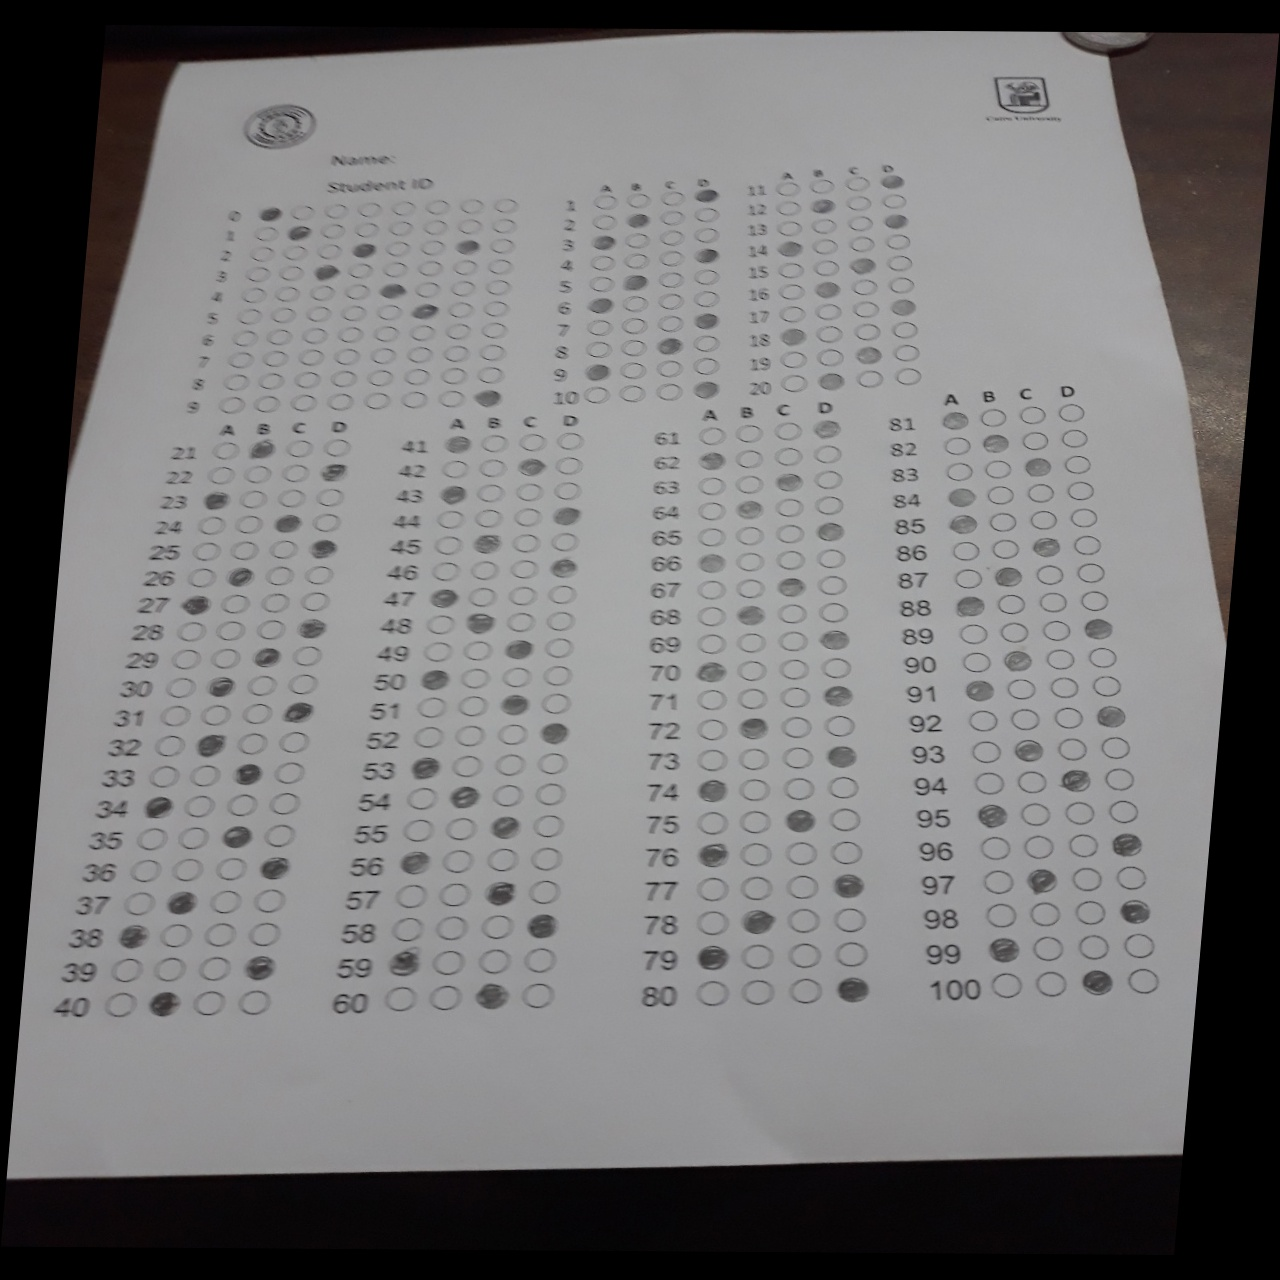not-c: (693, 874, 731, 903), (425, 983, 464, 1010), (520, 946, 559, 973), (435, 881, 474, 908), (490, 751, 529, 778), (694, 908, 731, 935), (381, 985, 418, 1012), (388, 915, 425, 942), (483, 846, 520, 873), (448, 753, 485, 779), (401, 816, 440, 842), (738, 942, 775, 969), (787, 942, 823, 969), (785, 907, 822, 934), (695, 979, 731, 1006), (433, 914, 469, 941), (830, 907, 867, 933), (833, 941, 871, 967), (787, 976, 824, 1002), (429, 949, 467, 975), (478, 913, 516, 939), (392, 883, 429, 908), (525, 880, 563, 906), (440, 849, 477, 874), (443, 816, 481, 842), (530, 812, 567, 838), (531, 781, 568, 806), (490, 782, 527, 808), (737, 979, 774, 1005), (518, 982, 554, 1008), (474, 948, 510, 974), (527, 845, 564, 871), (403, 784, 440, 810), (535, 750, 571, 776), (420, 638, 455, 663), (1077, 933, 1111, 959), (455, 693, 490, 717), (538, 692, 573, 716), (458, 666, 493, 690), (738, 842, 772, 866), (785, 874, 819, 899), (981, 869, 1015, 893), (1073, 900, 1107, 925), (983, 903, 1017, 927), (1034, 971, 1068, 995), (501, 663, 535, 688), (461, 639, 495, 663), (542, 635, 576, 660), (424, 611, 458, 635), (465, 583, 499, 607), (829, 808, 862, 832), (787, 840, 819, 865), (740, 876, 772, 900), (204, 921, 237, 946), (159, 922, 192, 947), (154, 956, 186, 981), (103, 990, 136, 1015), (192, 990, 225, 1015), (238, 989, 271, 1014), (1069, 867, 1102, 892), (1115, 864, 1148, 888), (1033, 935, 1065, 960), (1123, 932, 1156, 956), (990, 973, 1023, 998), (549, 530, 581, 554), (695, 747, 729, 770), (778, 715, 812, 738), (822, 714, 856, 737), (695, 811, 729, 835), (829, 840, 863, 864), (263, 823, 297, 846), (493, 722, 527, 745), (452, 723, 486, 747), (411, 724, 445, 748), (415, 695, 449, 719), (542, 663, 576, 687), (543, 610, 577, 633), (503, 610, 537, 633), (248, 921, 280, 946), (113, 956, 144, 981), (198, 955, 230, 980), (1102, 767, 1135, 790), (1063, 801, 1096, 824), (1028, 903, 1061, 926), (1126, 968, 1159, 992), (505, 584, 538, 607), (779, 745, 813, 768), (826, 776, 860, 798), (738, 810, 772, 832), (215, 857, 248, 879), (252, 888, 286, 911), (1017, 803, 1051, 825), (467, 559, 501, 581), (508, 557, 542, 579), (130, 858, 162, 881), (125, 891, 157, 914), (210, 888, 241, 912), (969, 740, 1001, 763), (736, 748, 769, 770), (781, 777, 813, 799), (170, 648, 203, 670), (154, 734, 186, 756), (188, 764, 220, 787), (183, 794, 216, 816), (135, 828, 168, 850), (170, 858, 203, 880), (1008, 707, 1041, 729), (966, 709, 999, 731), (1055, 737, 1088, 760), (1099, 736, 1132, 758), (1107, 799, 1139, 822), (979, 837, 1012, 859), (547, 583, 580, 605), (429, 559, 462, 581), (431, 535, 464, 557), (737, 778, 771, 799), (191, 540, 225, 561), (176, 620, 210, 641), (972, 772, 1006, 794), (210, 647, 241, 669), (245, 674, 277, 696), (159, 704, 191, 727), (149, 764, 181, 787), (236, 731, 267, 754), (1017, 771, 1049, 794), (1022, 836, 1054, 858), (774, 549, 806, 570), (815, 574, 847, 595), (259, 592, 292, 613), (291, 644, 324, 665), (177, 828, 210, 849), (1065, 835, 1098, 856), (287, 672, 318, 694), (477, 456, 508, 478), (254, 618, 288, 638), (696, 633, 728, 654), (778, 658, 810, 679), (736, 687, 768, 708), (241, 703, 273, 724), (277, 730, 308, 751), (274, 762, 306, 783), (268, 792, 300, 813), (225, 794, 257, 815), (1075, 561, 1107, 583), (956, 622, 988, 644), (510, 532, 542, 553), (551, 479, 583, 501), (733, 525, 765, 545), (815, 549, 847, 568), (302, 302, 335, 322), (275, 488, 308, 508), (268, 538, 301, 558), (229, 540, 261, 560), (186, 566, 219, 586), (263, 565, 295, 585), (302, 564, 335, 584), (298, 591, 331, 611), (219, 594, 252, 614), (215, 620, 247, 640), (998, 622, 1030, 642), (512, 505, 542, 527), (777, 602, 808, 624), (777, 629, 808, 651), (199, 704, 230, 726), (1037, 591, 1068, 612), (1049, 676, 1080, 697), (475, 482, 505, 503), (553, 455, 584, 476), (554, 429, 585, 450), (695, 501, 727, 520), (775, 524, 806, 544), (734, 551, 765, 571), (818, 601, 850, 621), (734, 577, 765, 597), (696, 580, 728, 600), (695, 605, 727, 625), (735, 632, 767, 652), (735, 660, 767, 680), (821, 658, 852, 678), (778, 687, 810, 707), (695, 689, 727, 709), (697, 719, 729, 738), (165, 678, 197, 697), (953, 568, 985, 588), (1080, 590, 1111, 610), (1041, 620, 1073, 640), (1085, 647, 1117, 667), (1005, 679, 1036, 699), (1053, 707, 1084, 727), (434, 509, 465, 529), (656, 268, 686, 290), (475, 365, 508, 383), (325, 392, 358, 410), (216, 395, 248, 414), (338, 302, 370, 321), (696, 527, 727, 547), (438, 365, 469, 384), (995, 593, 1026, 613), (961, 652, 992, 672), (1046, 649, 1076, 669), (1090, 676, 1121, 696), (472, 508, 503, 527), (512, 481, 543, 501), (440, 459, 470, 479), (516, 431, 546, 451), (435, 389, 467, 408), (328, 368, 360, 387), (220, 373, 252, 392), (297, 347, 328, 366), (404, 345, 436, 363), (441, 343, 472, 362), (299, 325, 331, 343), (483, 277, 515, 295), (241, 464, 273, 483), (855, 368, 884, 388), (772, 421, 802, 441), (772, 445, 802, 465), (813, 495, 843, 515), (491, 195, 520, 215), (1065, 481, 1095, 501), (1068, 508, 1097, 527), (481, 433, 510, 452), (284, 440, 316, 457), (734, 450, 764, 469), (774, 497, 804, 516), (363, 392, 394, 410), (290, 393, 320, 411), (332, 346, 362, 365), (334, 325, 365, 343), (268, 305, 299, 324), (211, 441, 241, 459), (324, 437, 354, 456), (198, 516, 229, 535), (234, 515, 265, 533), (1021, 430, 1051, 449), (944, 462, 974, 481), (985, 486, 1015, 505), (697, 425, 726, 445), (424, 196, 452, 216), (1057, 402, 1085, 422), (1073, 535, 1101, 554), (399, 390, 430, 408), (402, 367, 434, 384), (252, 395, 284, 413), (256, 372, 287, 389), (260, 349, 292, 367), (367, 347, 399, 365), (478, 320, 510, 338), (443, 322, 475, 340), (407, 324, 438, 341), (372, 324, 403, 341), (264, 327, 295, 345), (230, 328, 261, 346), (445, 300, 477, 318), (481, 299, 512, 316), (205, 465, 237, 483), (278, 463, 309, 481), (316, 488, 348, 505), (311, 513, 342, 531), (891, 320, 920, 339), (891, 343, 920, 362), (893, 366, 922, 384), (734, 424, 763, 443), (734, 475, 763, 493), (813, 470, 843, 489), (620, 293, 649, 312), (653, 381, 682, 400), (942, 436, 972, 455), (979, 408, 1008, 427), (1017, 406, 1047, 424), (982, 459, 1012, 478), (1062, 455, 1091, 474), (1026, 483, 1055, 502), (951, 542, 980, 560), (1036, 565, 1065, 584), (291, 370, 324, 387), (654, 359, 685, 376), (584, 319, 614, 336), (617, 383, 647, 401), (226, 350, 257, 368), (477, 343, 508, 361), (233, 307, 264, 325), (375, 302, 406, 320), (239, 490, 270, 508), (778, 349, 806, 368), (779, 374, 808, 393), (812, 445, 840, 464), (656, 207, 685, 226), (324, 200, 352, 219), (288, 202, 316, 220), (990, 539, 1019, 558), (813, 348, 843, 366), (696, 476, 726, 493), (624, 190, 653, 207), (621, 231, 651, 248), (621, 252, 651, 270), (656, 292, 686, 309), (619, 316, 648, 334), (584, 340, 613, 358), (619, 338, 648, 355), (618, 360, 647, 377), (355, 200, 384, 218), (1058, 428, 1088, 445), (1028, 511, 1057, 529), (842, 173, 869, 192), (459, 196, 486, 215), (692, 334, 722, 350), (366, 369, 396, 386), (777, 282, 805, 300), (815, 302, 843, 320), (813, 326, 842, 343), (658, 189, 686, 206), (656, 229, 685, 246), (656, 248, 685, 266), (583, 384, 611, 402), (390, 198, 418, 216), (319, 222, 347, 239), (486, 257, 515, 274), (989, 513, 1017, 531), (849, 279, 878, 295), (777, 306, 806, 322), (591, 192, 620, 209), (590, 212, 619, 229), (586, 274, 615, 291), (253, 225, 282, 241), (248, 246, 278, 263), (238, 287, 267, 304), (315, 241, 342, 259), (308, 284, 335, 301), (420, 238, 447, 256), (692, 358, 722, 373), (887, 275, 915, 292), (656, 314, 685, 331), (588, 253, 617, 270), (245, 266, 273, 282), (353, 222, 381, 238), (452, 259, 481, 275), (456, 218, 484, 234), (692, 206, 721, 222), (692, 226, 721, 241), (692, 268, 721, 284), (690, 291, 720, 306), (881, 192, 908, 209), (812, 238, 839, 254), (813, 259, 840, 275), (273, 285, 300, 301), (278, 264, 305, 280), (282, 244, 309, 260), (343, 282, 370, 299), (346, 263, 373, 279), (381, 260, 408, 277), (422, 219, 449, 236), (417, 260, 444, 277), (414, 281, 441, 298), (449, 280, 476, 297), (490, 218, 517, 234), (489, 237, 516, 253), (851, 301, 879, 316), (811, 218, 837, 234), (845, 195, 872, 210), (808, 178, 835, 193), (774, 182, 801, 197), (847, 215, 874, 230), (884, 233, 911, 248), (777, 263, 804, 278), (855, 324, 881, 339), (384, 240, 411, 256), (387, 220, 414, 236), (849, 236, 874, 251), (776, 200, 803, 215), (776, 220, 803, 234), (886, 256, 912, 270)
taken-c: (386, 949, 422, 976), (987, 937, 1023, 962), (524, 911, 560, 937), (396, 849, 433, 874), (1081, 615, 1116, 641), (474, 983, 509, 1009), (738, 908, 775, 933), (1000, 647, 1036, 672), (695, 944, 729, 969), (1058, 765, 1092, 791), (1094, 702, 1128, 728), (1117, 898, 1152, 922), (1110, 831, 1145, 856), (954, 593, 989, 618), (280, 700, 315, 724), (835, 978, 871, 1001), (697, 842, 730, 867), (165, 890, 198, 915), (117, 922, 150, 948), (147, 990, 179, 1016), (1080, 969, 1114, 994), (1024, 867, 1058, 892), (976, 803, 1010, 828), (1012, 737, 1046, 762), (964, 678, 998, 702), (241, 954, 275, 979), (694, 660, 728, 683), (192, 733, 226, 756), (230, 761, 264, 784), (219, 824, 253, 847), (257, 856, 291, 879), (784, 808, 816, 832), (832, 872, 864, 897), (992, 565, 1024, 588), (1022, 455, 1055, 478), (981, 430, 1014, 454), (142, 795, 175, 818), (489, 816, 522, 839), (483, 881, 516, 905), (940, 407, 972, 430), (224, 564, 256, 587), (824, 744, 857, 767), (1030, 536, 1063, 558), (448, 785, 481, 808), (737, 717, 771, 738), (821, 685, 855, 706), (696, 779, 730, 801), (946, 485, 978, 508), (499, 693, 531, 715), (538, 722, 570, 744), (813, 520, 846, 542), (945, 513, 978, 535), (418, 669, 451, 690), (307, 537, 338, 559), (295, 617, 326, 639), (697, 450, 729, 471), (692, 309, 723, 331), (181, 593, 212, 614), (251, 645, 282, 666), (503, 638, 535, 659), (735, 604, 765, 625), (655, 335, 686, 356), (205, 676, 236, 697), (411, 757, 442, 778), (583, 362, 614, 382), (441, 434, 472, 454), (516, 457, 547, 477), (697, 553, 728, 573), (777, 577, 808, 597), (818, 629, 849, 649), (586, 295, 617, 315), (437, 485, 468, 505), (429, 587, 459, 607), (464, 612, 495, 632), (551, 506, 583, 525), (549, 558, 580, 577), (855, 345, 884, 365), (246, 440, 275, 459), (735, 499, 765, 518), (471, 535, 502, 553), (274, 512, 302, 532), (692, 380, 721, 399), (810, 197, 839, 215), (847, 257, 877, 274), (817, 372, 846, 389), (775, 472, 804, 490), (813, 420, 840, 438), (319, 463, 349, 479), (200, 492, 231, 509), (312, 264, 340, 281), (776, 239, 805, 256), (888, 299, 918, 315), (472, 389, 502, 406), (779, 327, 806, 345), (813, 281, 842, 298), (621, 274, 649, 291), (622, 211, 651, 227), (455, 238, 483, 254), (349, 241, 377, 258), (285, 224, 313, 240), (257, 205, 285, 222), (411, 301, 440, 318), (878, 173, 907, 189), (881, 213, 910, 229), (693, 247, 721, 263), (590, 234, 618, 250), (693, 188, 721, 203), (377, 282, 406, 298)
